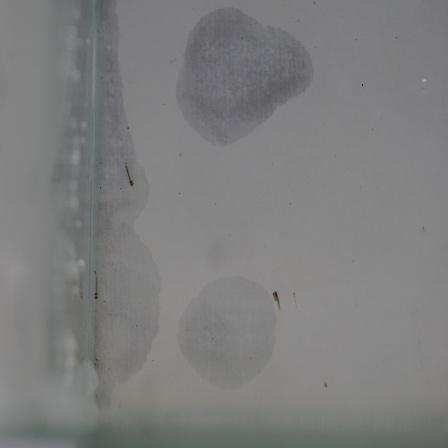Jentik-Nyamuk: (121, 157, 139, 192), (89, 265, 103, 303), (267, 287, 285, 313)
